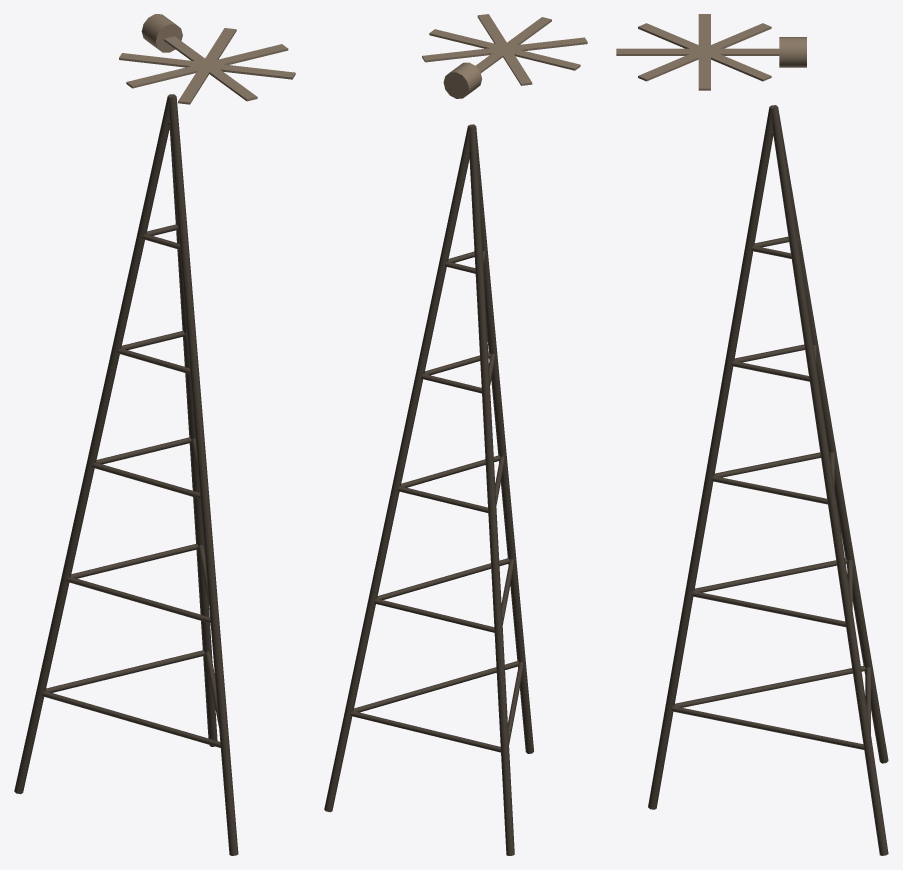
File: canyon-raider-lattice-windmill-v1.glb
The picture shows the model from 3 angles, left to right: view 1: azimuth 30°, elevation 25°; view 2: azimuth 150°, elevation 25°; view 3: azimuth 270°, elevation 25°; orthographic projection. The views are drawn at different scales.
Visible parts, largest first — view 1: Canyon Raider Lattice Windmill; view 2: Canyon Raider Lattice Windmill; view 3: Canyon Raider Lattice Windmill.
Part boxes in pixels (x1,y1,x2,y2): Canyon Raider Lattice Windmill: [14, 14, 295, 855]; Canyon Raider Lattice Windmill: [324, 14, 587, 855]; Canyon Raider Lattice Windmill: [616, 14, 888, 855].
Size of the model in its own units: 4.34 by 16.17 by 5.18.
